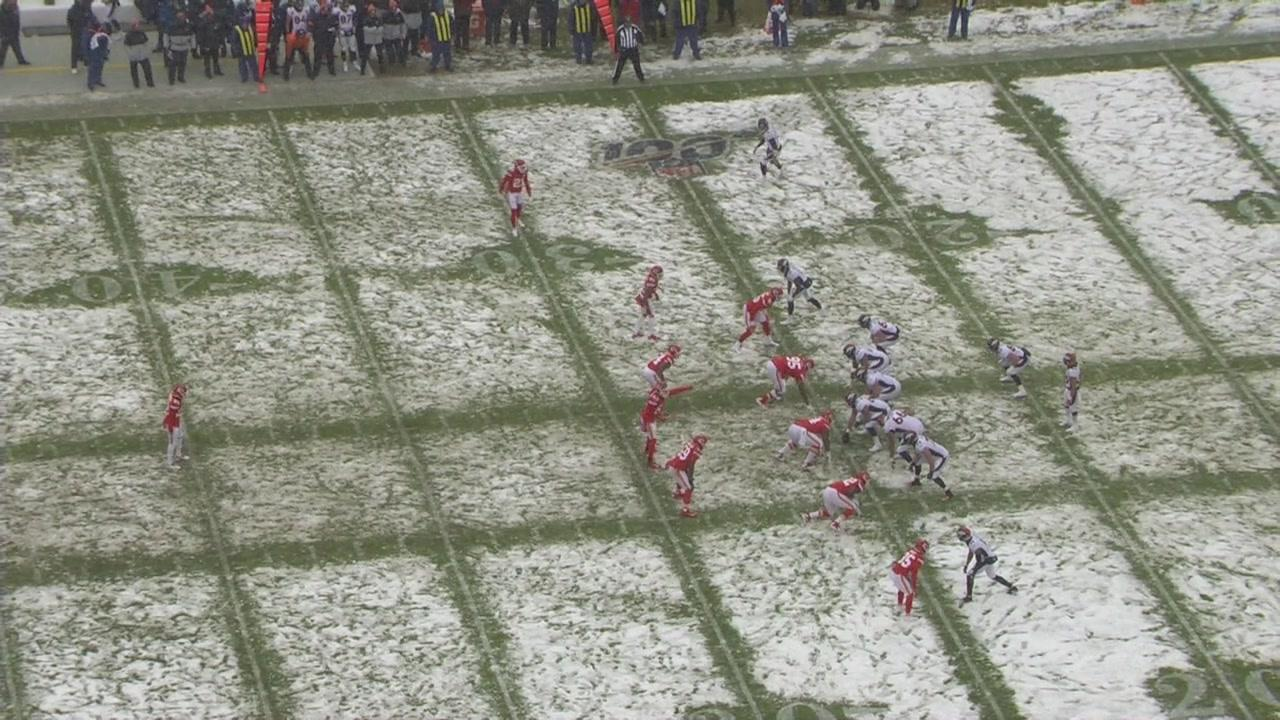player: (632, 378, 695, 473), (955, 524, 1020, 604), (798, 471, 872, 534), (887, 535, 931, 625), (775, 410, 839, 471), (902, 430, 955, 503), (665, 433, 709, 520), (755, 352, 819, 411), (734, 286, 788, 353), (777, 257, 830, 325), (874, 409, 929, 472), (498, 157, 536, 240), (842, 391, 892, 453), (629, 264, 668, 342), (986, 336, 1033, 400), (160, 382, 190, 473), (842, 342, 894, 391), (1057, 350, 1086, 436), (753, 116, 787, 186), (853, 365, 903, 410), (643, 344, 685, 390), (856, 312, 903, 352)
ref: (607, 14, 649, 89)
